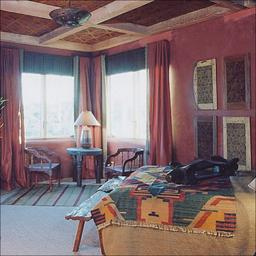Cama: (100, 169, 250, 255)
Ventana: (18, 53, 77, 139), (105, 57, 152, 141)
